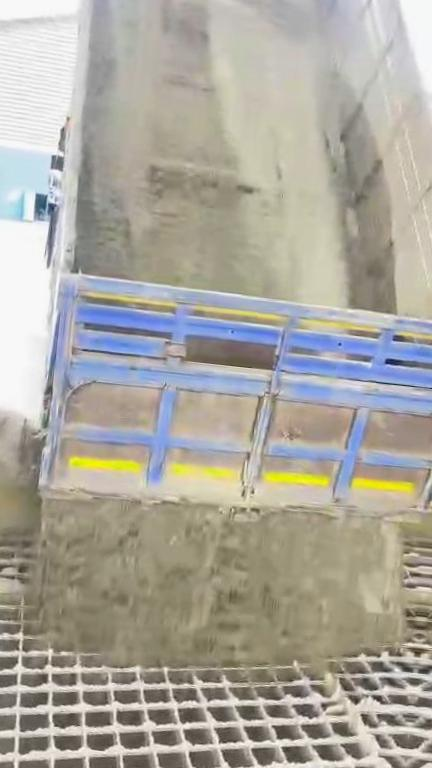sand: (66, 0, 339, 301), (35, 496, 400, 664), (0, 398, 39, 560), (402, 513, 432, 545), (0, 572, 20, 598)
